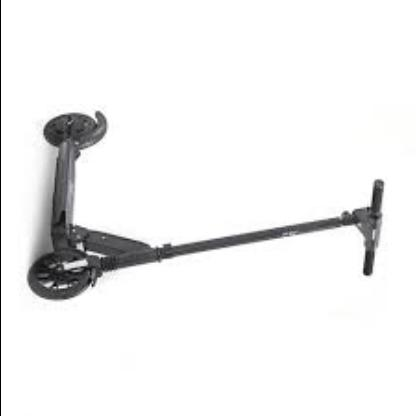bike: (27, 110, 395, 301)
